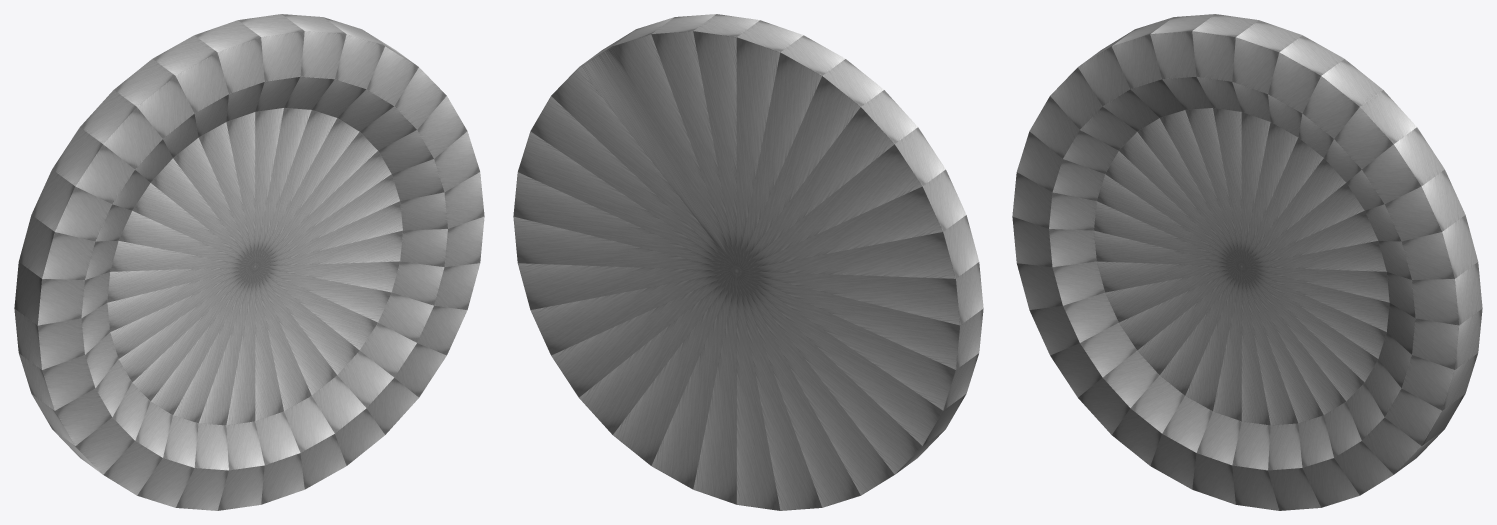
File: coin.obj
The picture shows the model from 3 angles, left to right: view 1: azimuth 30°, elevation 25°; view 2: azimuth 150°, elevation 25°; view 3: azimuth 330°, elevation 25°; orthographic projection.
Visible parts, largest first — view 1: Tube_Tube.001; view 2: Tube_Tube.001; view 3: Tube_Tube.001.
Boxes of the visible parts, x1,y1,x2,y2 form: Tube_Tube.001: (14,14,484,510); Tube_Tube.001: (513,14,983,510); Tube_Tube.001: (1012,14,1482,510).
Size of the model in its own units: 2 by 2 by 0.2087.
